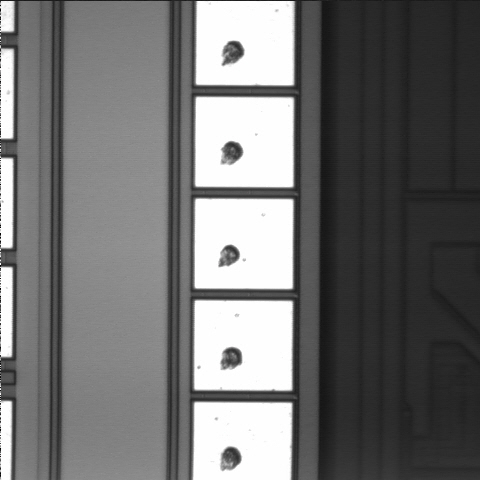pad: (195, 97, 294, 187), (195, 199, 293, 289), (194, 300, 292, 390)
